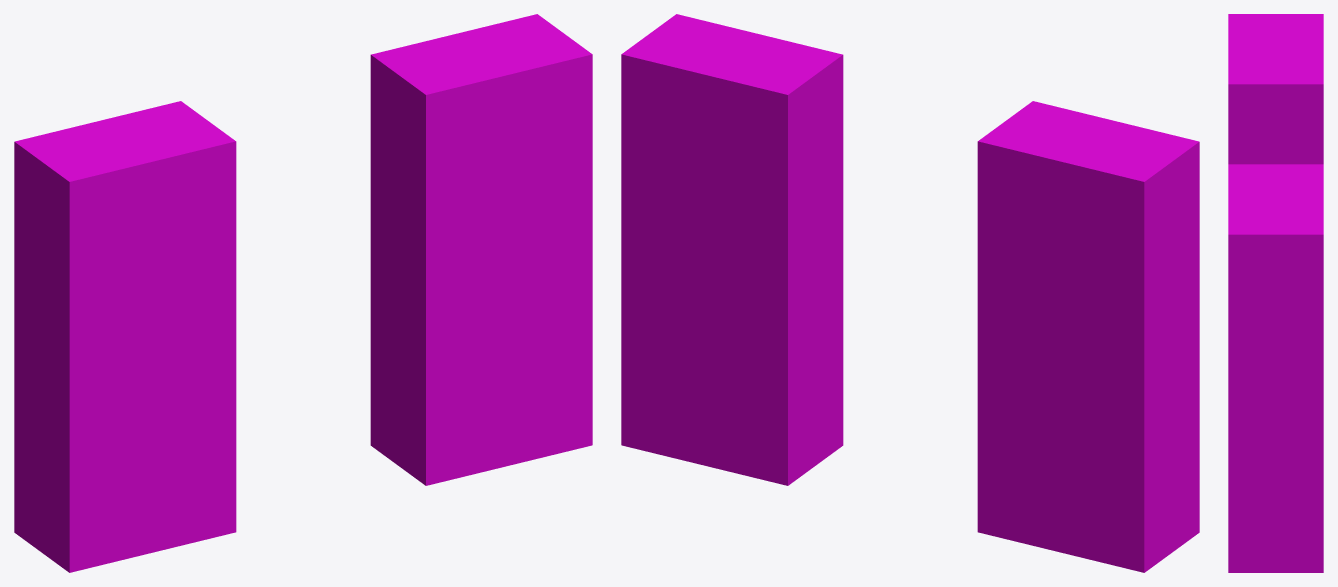
Rendered from WD_Collider.fbx.
3 renders of one model, left to right at view 1: azimuth 30°, elevation 25°; view 2: azimuth 150°, elevation 25°; view 3: azimuth 270°, elevation 25°, orthographic. The views are drawn at different scales.
Parts seen in each view (by area): view 1: WD_Collider; view 2: WD_Collider; view 3: WD_Collider.
Boxes of the visible parts, bbox=[...] form: WD_Collider: bbox=[14, 14, 592, 572]; WD_Collider: bbox=[621, 14, 1199, 572]; WD_Collider: bbox=[1228, 14, 1323, 572].
Size of the model in its own units: 7000 by 5000 by 1279.
